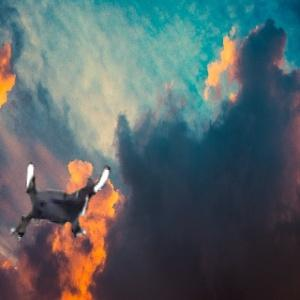drone: (8, 150, 114, 256)
